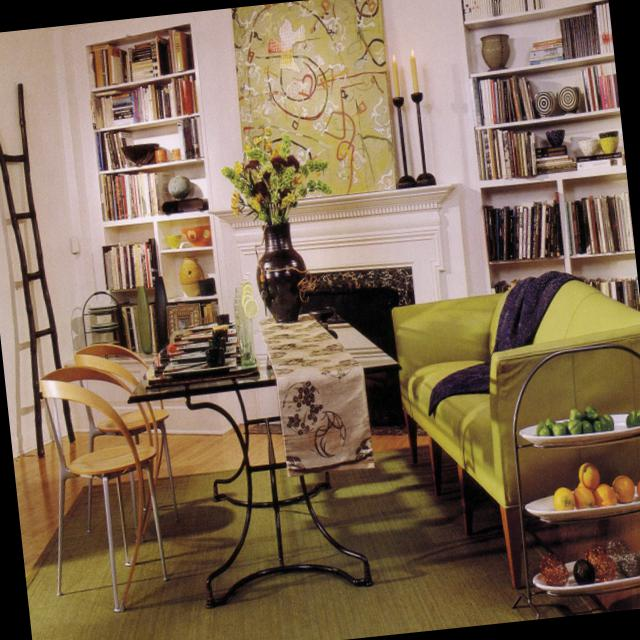area rug: (26, 443, 603, 640)
basket crop: (197, 276, 216, 295)
blanket: (428, 269, 581, 416)
book case: (95, 89, 120, 96)
books: (483, 191, 563, 261), (564, 191, 634, 254), (102, 170, 176, 219), (468, 74, 535, 126), (475, 128, 537, 180), (102, 237, 159, 289), (111, 300, 156, 351), (578, 275, 640, 311), (88, 43, 133, 87), (581, 60, 619, 111), (168, 73, 198, 116), (167, 28, 195, 72), (177, 115, 204, 159), (130, 82, 158, 123), (150, 33, 172, 76), (90, 95, 113, 129), (156, 84, 170, 118), (200, 300, 219, 323)
books crop: (464, 0, 587, 18)
books on shelf: (559, 2, 598, 59), (596, 2, 613, 53)
bowl -X: (120, 142, 159, 165), (309, 305, 334, 320)
box contants: (161, 196, 208, 214)
candle light: (409, 47, 436, 186), (391, 51, 416, 189)
chair -occluded-: (39, 365, 168, 613), (73, 342, 180, 542)
chop stick: (163, 361, 207, 373)
decorative ball: (572, 557, 595, 584)
flower: (221, 126, 333, 223)
glass ceiling: (234, 305, 255, 365)
glasses -X: (234, 282, 242, 305)
ladder crop: (0, 82, 76, 456)
lemon: (244, 298, 259, 318), (241, 294, 253, 307), (242, 289, 254, 298), (243, 284, 253, 291)
mantle: (207, 180, 460, 425)
metal ball: (540, 552, 569, 585), (606, 537, 630, 565), (593, 553, 616, 580), (620, 553, 640, 576), (582, 544, 606, 562)
mug: (205, 347, 225, 367), (208, 338, 226, 352), (212, 328, 228, 341), (155, 148, 167, 161), (217, 312, 229, 325), (172, 147, 180, 160)
orange: (612, 474, 635, 503), (578, 461, 600, 489), (593, 483, 617, 506), (553, 485, 575, 510), (574, 485, 595, 508)
painting crop: (231, 0, 397, 204)
pear: (625, 409, 640, 426), (584, 404, 598, 422), (600, 413, 614, 430), (567, 419, 582, 434), (536, 419, 550, 434), (553, 420, 566, 435), (569, 407, 584, 419), (545, 416, 556, 432), (582, 419, 593, 432), (593, 419, 602, 432), (563, 419, 569, 432)
picture occluded: (166, 301, 201, 339)
place mat: (145, 365, 259, 389)
plate food: (532, 551, 640, 593), (525, 485, 640, 524), (161, 357, 236, 378), (169, 344, 237, 363), (176, 335, 238, 351), (180, 327, 237, 342), (186, 321, 235, 331), (87, 302, 116, 315), (91, 321, 118, 333)
plate_: (519, 411, 640, 449)
pottery ball: (479, 33, 511, 71), (179, 255, 203, 296), (556, 84, 581, 114), (533, 89, 556, 118), (181, 224, 211, 246), (599, 131, 619, 153), (545, 128, 565, 146), (577, 139, 597, 155), (166, 232, 181, 248)
pottery cat: (167, 174, 191, 199)
runner cloth: (257, 312, 375, 477)
sofa bed: (392, 274, 640, 588)
stack of books: (96, 130, 134, 169), (132, 41, 153, 80), (111, 91, 133, 126)
stacked books: (536, 143, 576, 173), (576, 150, 623, 169), (528, 37, 562, 63)
stand clothes: (511, 342, 640, 618), (81, 290, 124, 346)
table -X: (127, 310, 403, 608)
vase -X: (255, 221, 306, 323), (154, 274, 168, 352), (137, 285, 152, 353)
